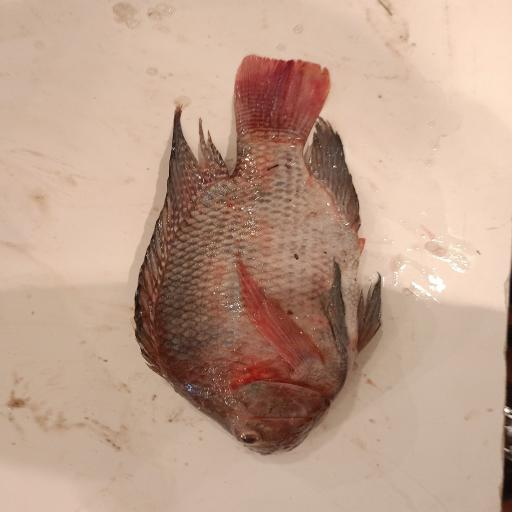Tilapia: (133, 55, 382, 456)
